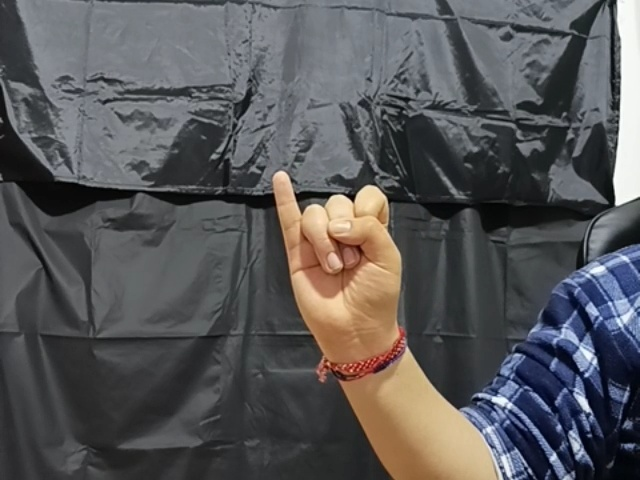I: (269, 171, 414, 353)
